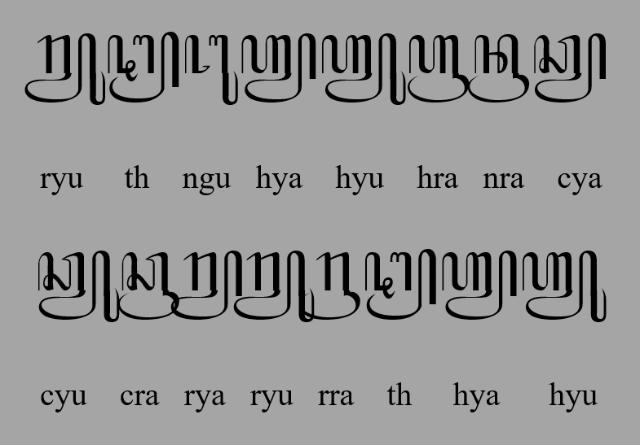-th: (364, 248, 438, 322), (108, 30, 180, 104)
cr: (118, 251, 180, 320)
cy: (532, 33, 608, 103)
cyu: (38, 250, 120, 324)
hr: (408, 34, 470, 104)
hy: (240, 32, 316, 104), (442, 250, 518, 322)
hyu: (320, 33, 408, 106), (522, 250, 608, 324)
ngu: (184, 34, 238, 106)
nr: (467, 33, 529, 103)
rr: (299, 253, 361, 321)
ry: (172, 251, 242, 321)
ryu: (23, 33, 106, 106), (234, 250, 314, 324)
